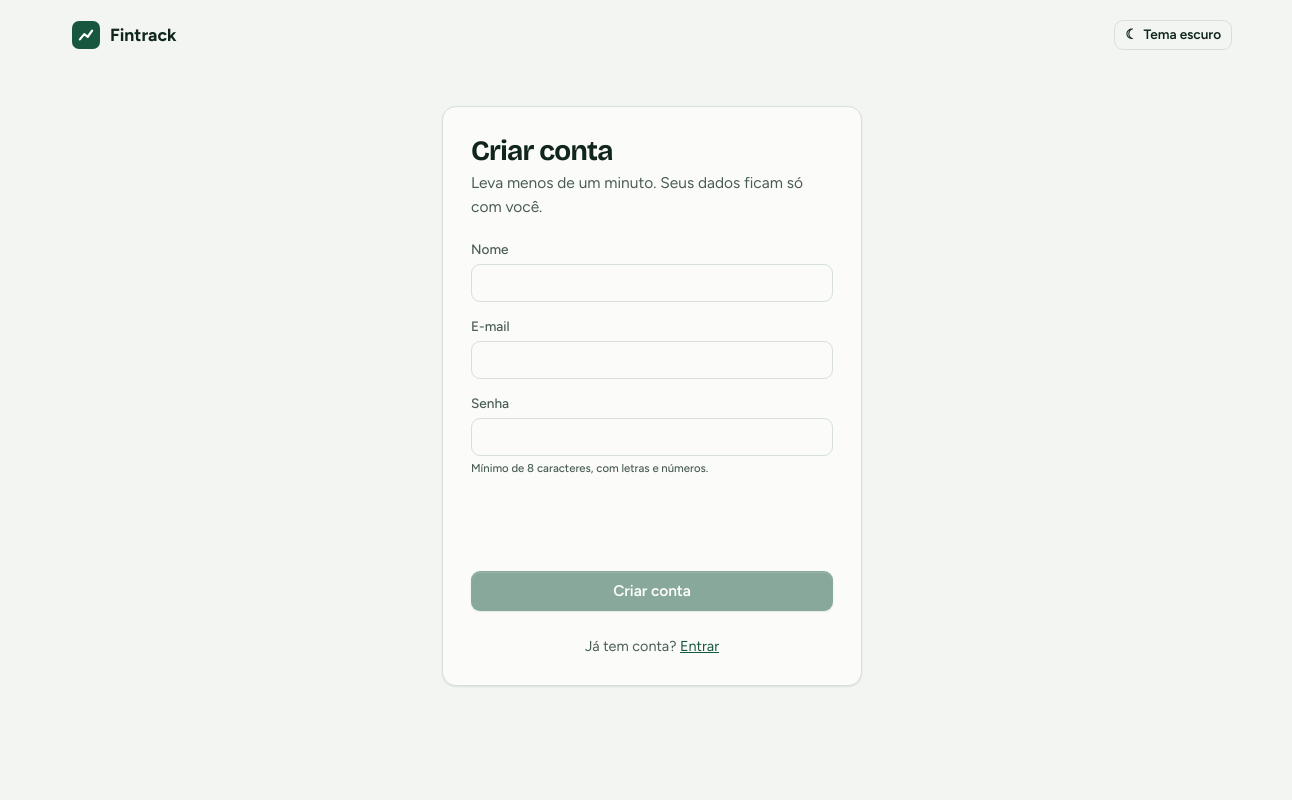
Scenario: Sign-up with Turnstile (BR-408) › AC-414: waits for the human check and sends its token with the sign-up
The image size is (1292, 800).
Later steps or results of the test are not shown.
Type "Ana" into the field labelled "Nome" at (652, 283), box [471, 264, 833, 302]
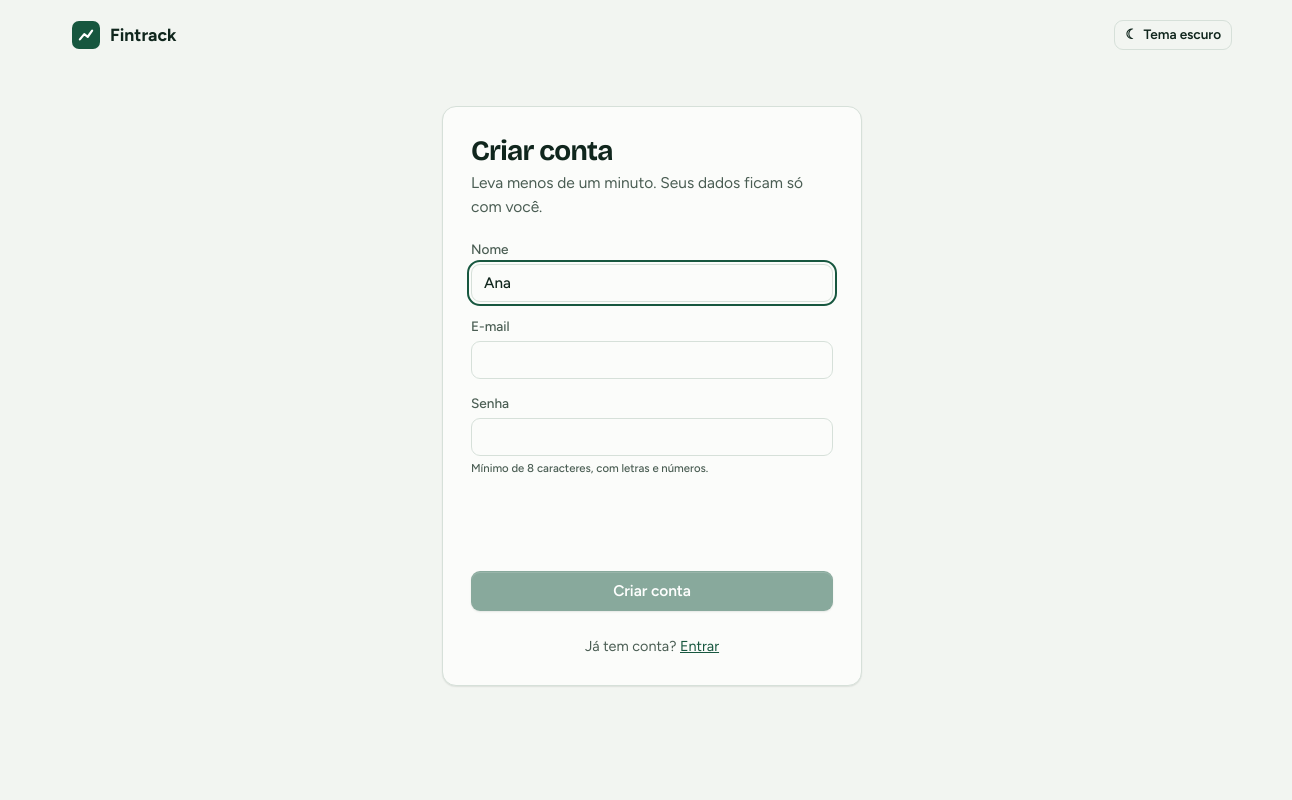
Type "ana@example.com" into the field labelled "E-mail" at (652, 360), box [471, 341, 833, 379]
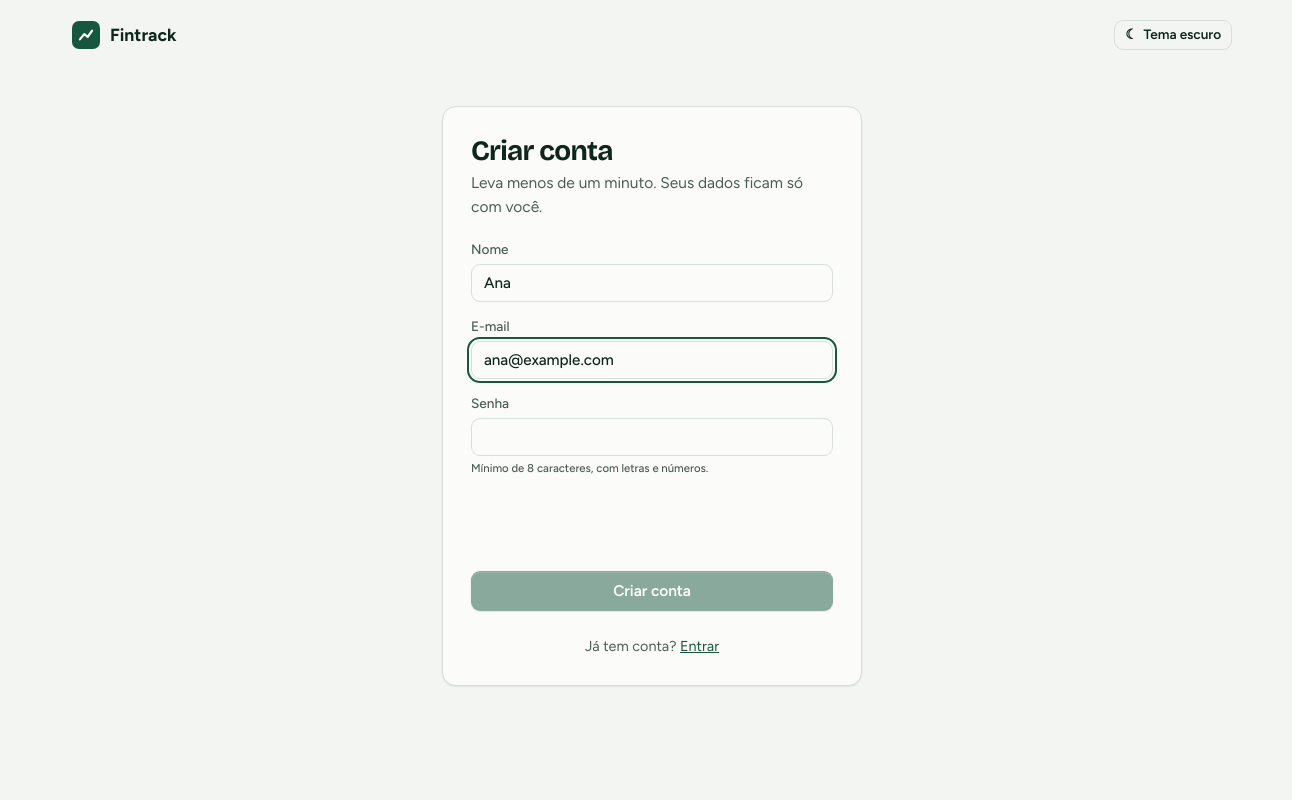
Type "segredo123" into the password field labelled "Senha Mínimo de 8 caracteres, com letras e números." at (652, 437), box [471, 418, 833, 456]
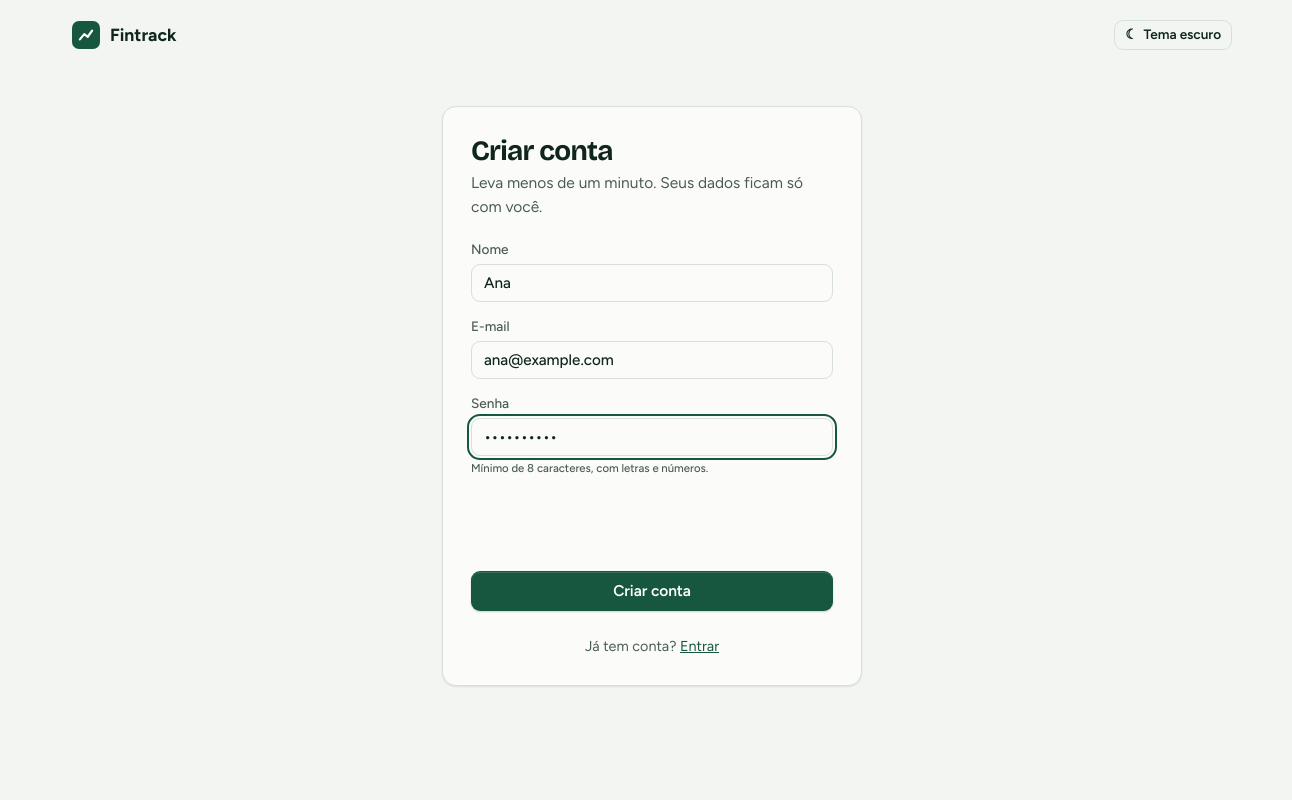
Click the button "Criar conta" at (652, 591), box [471, 571, 833, 611]
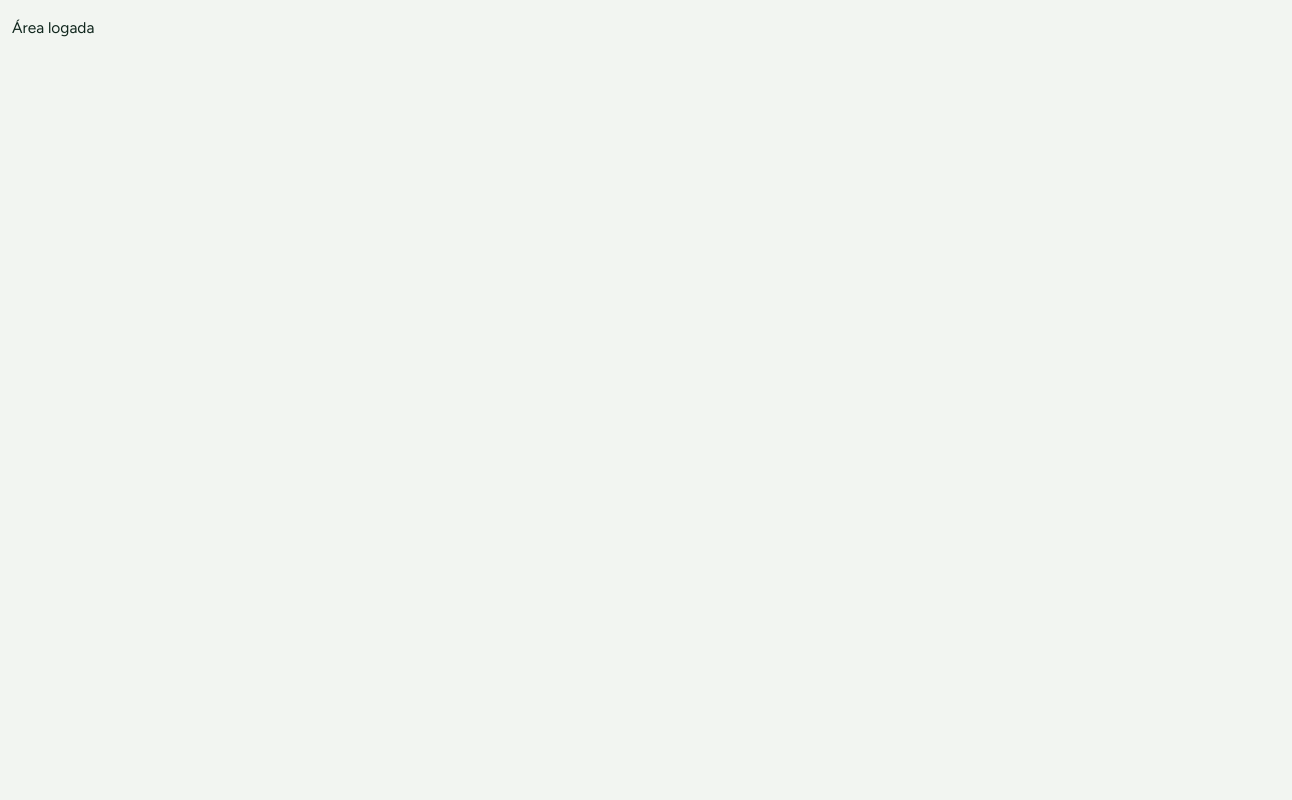
Now the text "Área logada" is shown, box [12, 18, 94, 36]
